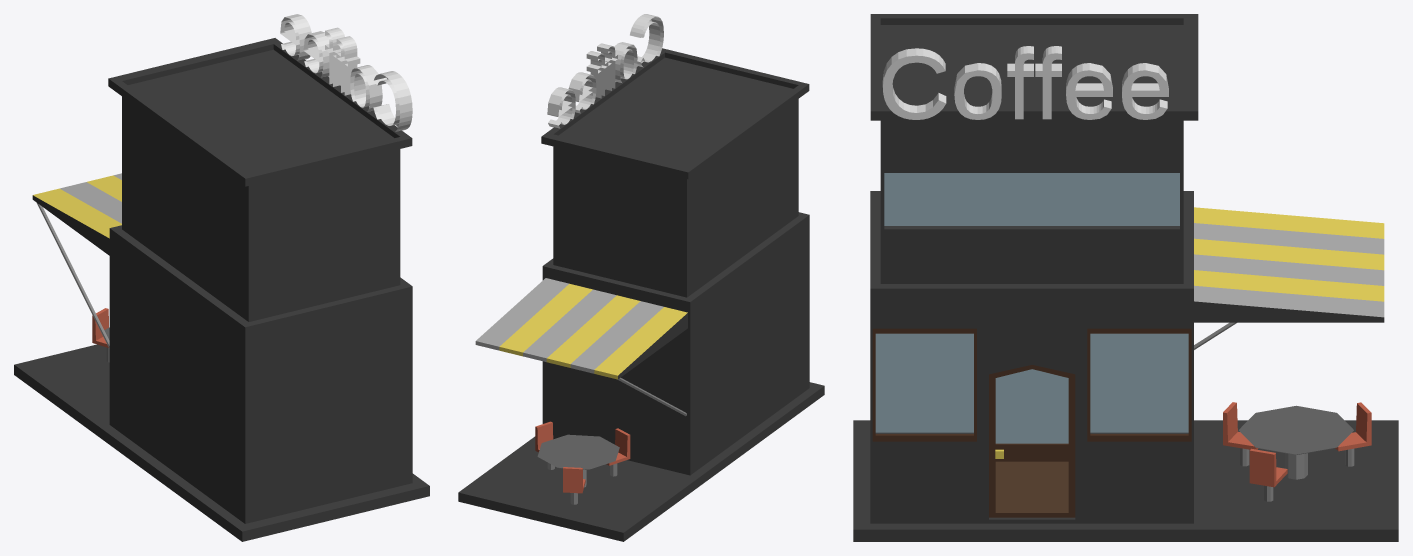
Rendered from coffe-p.glb.
The picture shows the model from 3 angles, left to right: view 1: azimuth 30°, elevation 25°; view 2: azimuth 150°, elevation 25°; view 3: azimuth 270°, elevation 25°; orthographic projection. The views are drawn at different scales.
Visible parts, largest first — view 1: coffe-p; view 2: coffe-p; view 3: coffe-p.
Part boxes in pixels (<box>): coffe-p: <box>14,14,429,541</box>; coffe-p: <box>458,14,824,541</box>; coffe-p: <box>853,14,1398,541</box>.
Size of the model in its own units: 2.97 by 6.15 by 6.26.
1 material, 1 textured.
